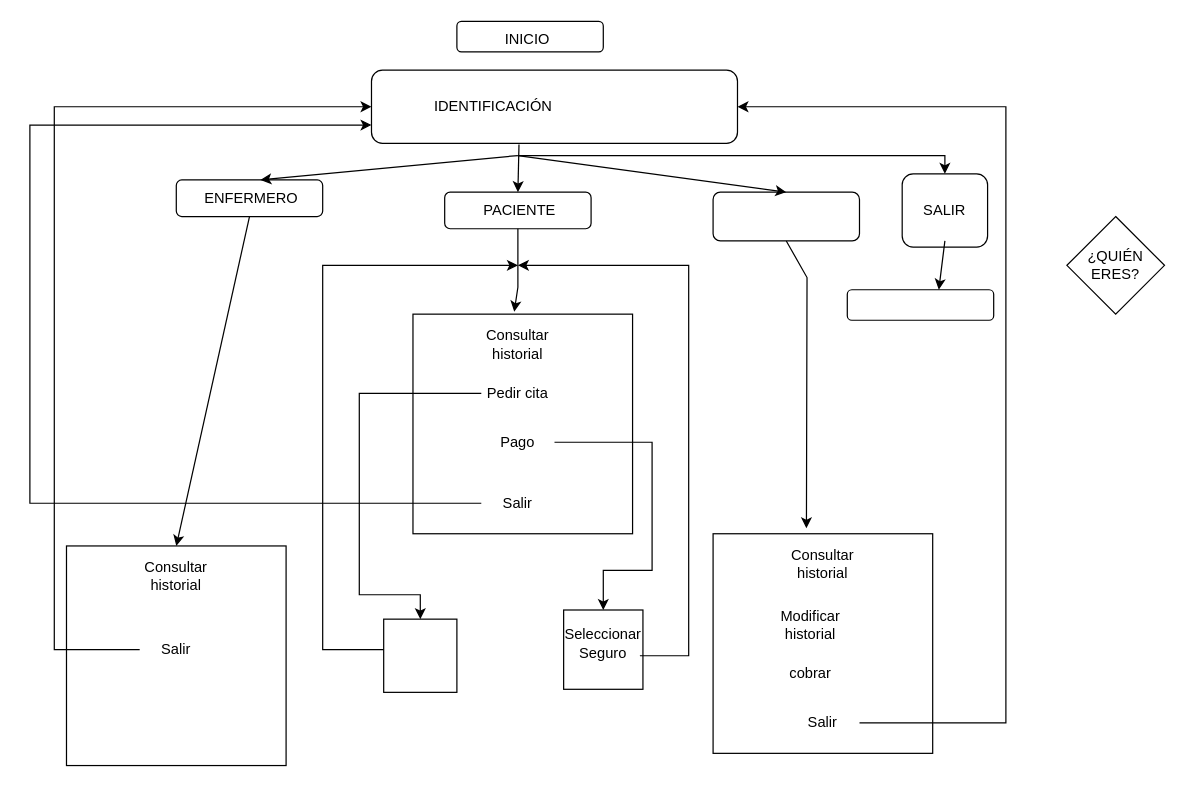
The diagram is 1186 pixels wide and 787 high, and some of its shapes have lost their labels. Here are the shapes that lost their labels. From the top down, the box of each, then its label:
(712, 191, 859, 241): DOCTOR
(846, 289, 994, 320): FIN
(382, 618, 457, 692): Modificar fecha
